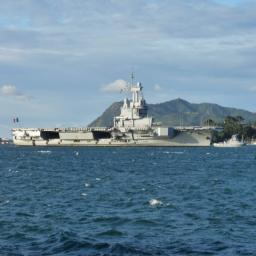Portanaves: (10, 71, 229, 149)
